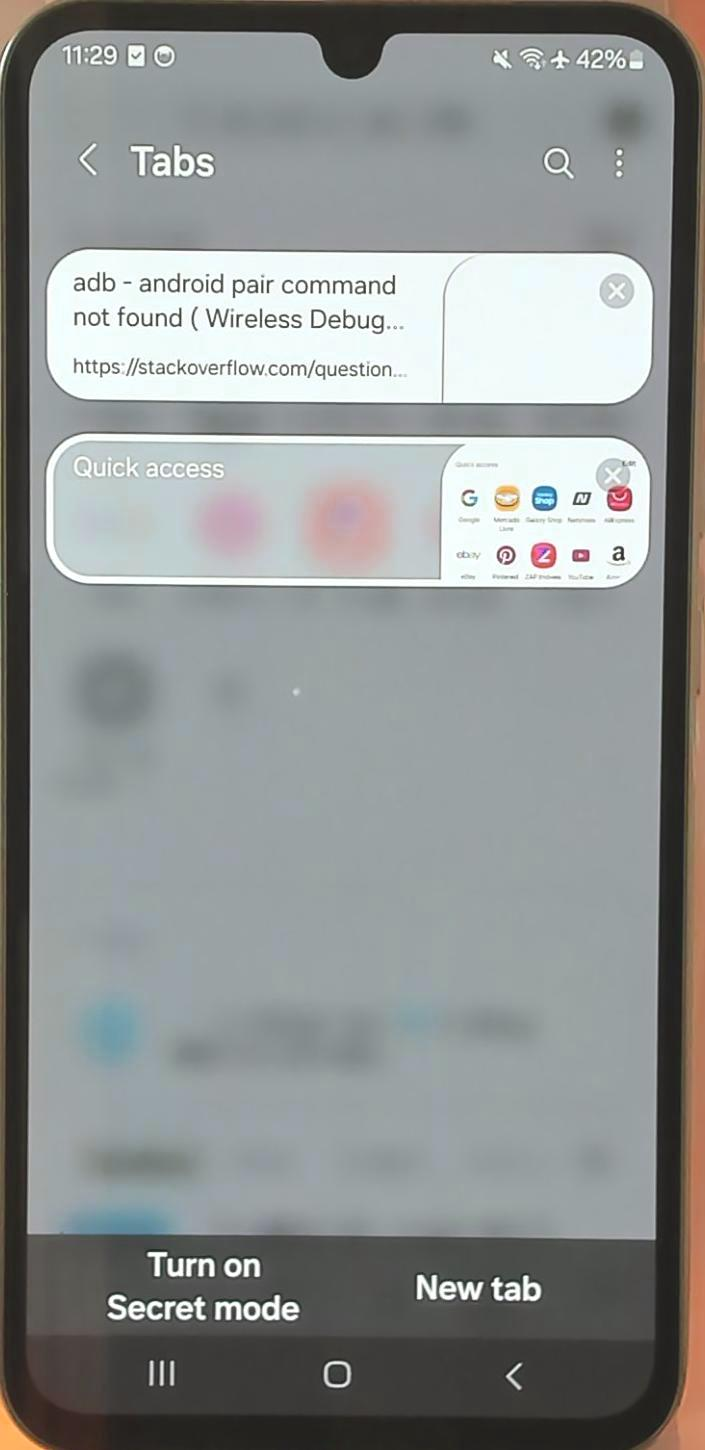CommunBotton: (44, 232, 664, 414), (42, 426, 658, 598), (78, 1242, 318, 1336), (408, 1252, 558, 1314), (60, 106, 122, 202), (538, 130, 590, 194), (128, 1348, 190, 1396), (500, 1340, 534, 1402), (320, 1342, 358, 1396)
menu: (610, 134, 632, 200)
